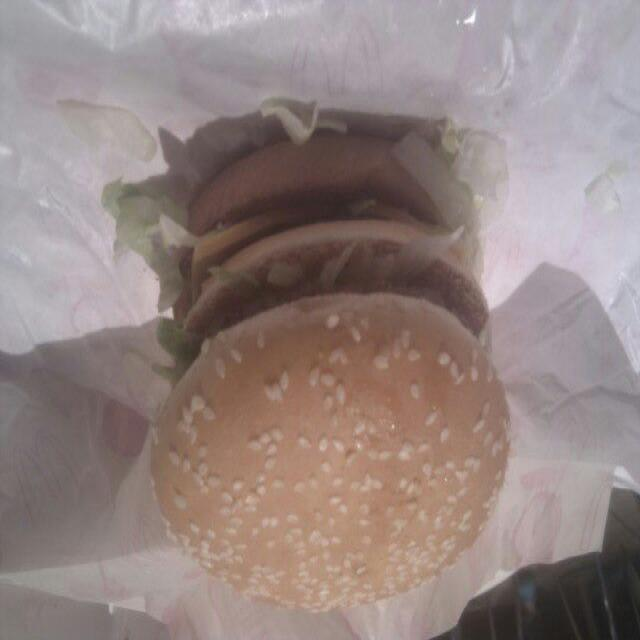Hamburger: (131, 119, 520, 620)
